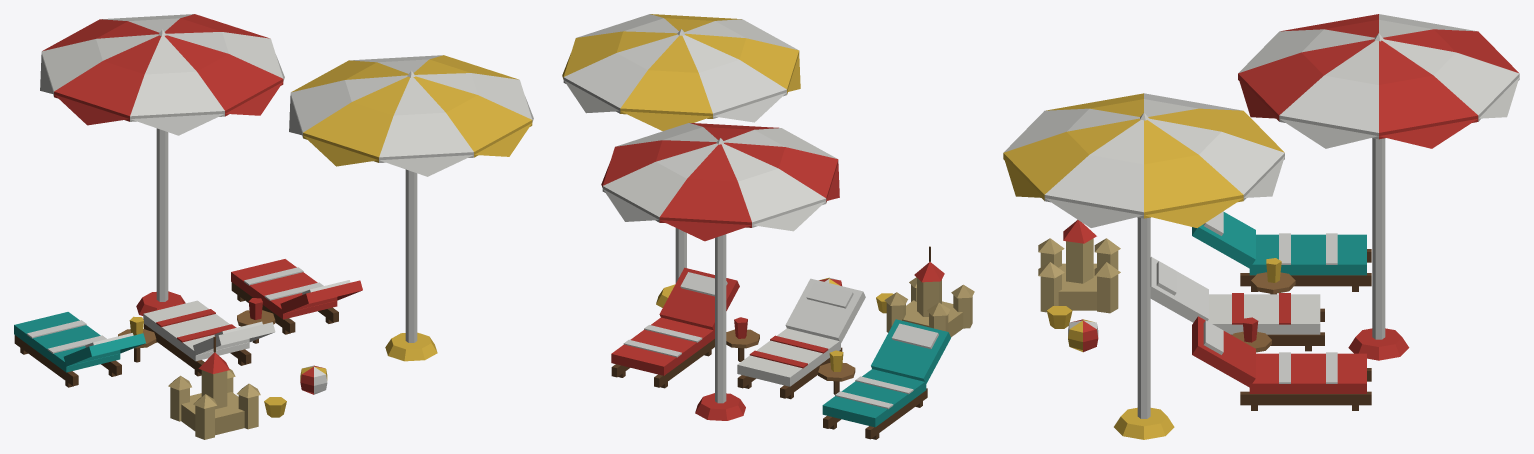
Rendered from Decor_BeachBar_Parasols.fbx.
3 views of the same model, side by side, from view 1: azimuth 30°, elevation 25°; view 2: azimuth 150°, elevation 25°; view 3: azimuth 270°, elevation 25° (orthographic). The views are drawn at different scales.
Visible parts, largest first — view 1: Parasols_Body; view 2: Parasols_Body; view 3: Parasols_Body.
Boxes of the visible parts, x1=… form: Parasols_Body: x1=14, y1=14, x2=533, y2=439; Parasols_Body: x1=562, y1=14, x2=974, y2=439; Parasols_Body: x1=1003, y1=14, x2=1519, y2=439.
Bounding box in the file's own units: 22.5 × 14.8 × 22.
